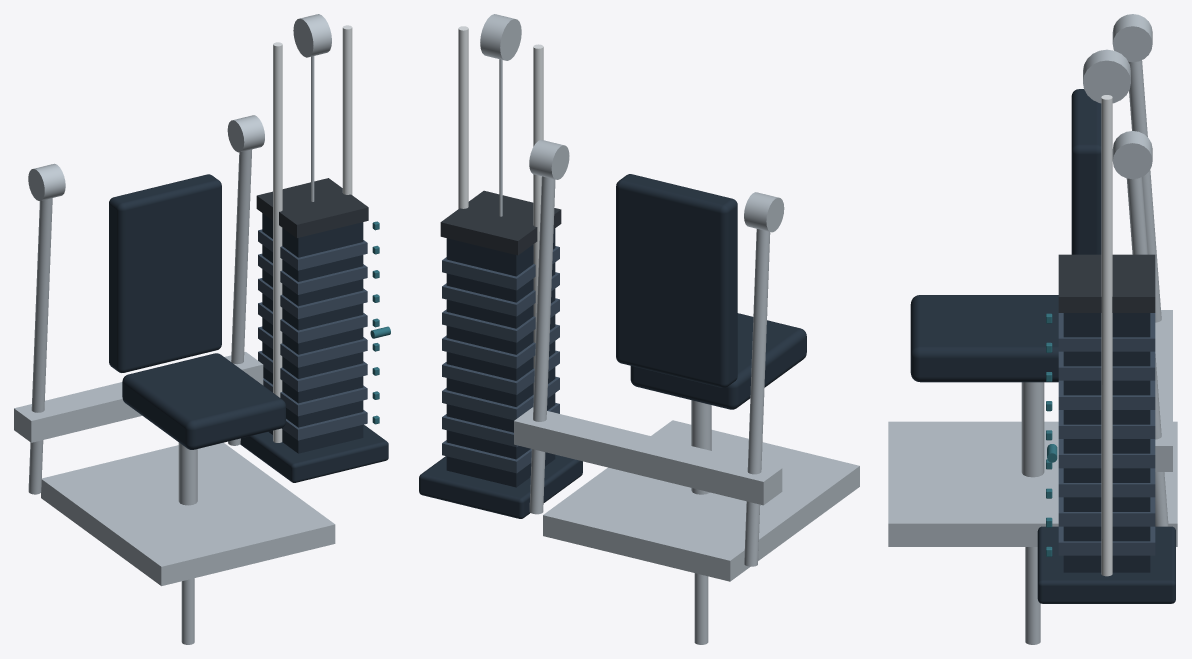
Rendered from seated_dip.glb.
3 views of the same model, side by side, from view 1: azimuth 30°, elevation 25°; view 2: azimuth 150°, elevation 25°; view 3: azimuth 270°, elevation 25° (orthographic). The views are drawn at different scales.
Visible parts, largest first — view 1: base, back, weightPlate (×8), stack, seat, guide (×2), pivotBridge, stackBase, stackLift, Lsupport, Rsupport, loadPulley (+5 smaller); view 2: back, base, weightPlate (×8), stack, pivotBridge, seat, stackBase, stackLift, Rsupport, Lsupport, guide (×2), loadPulley (+5 smaller); view 3: base, seat, weightPlate (×8), stack, stackBase, guide, stackLift, back, pivotBridge, post, Rsupport, Lsupport (+4 smaller).
Part boxes in pixels (box(x1,y1,x2,y2)): base: box(41, 442, 335, 586); back: box(109, 174, 221, 372); weightPlate (×8): box(258, 229, 367, 440); stack: box(262, 213, 363, 453); seat: box(122, 353, 285, 449); guide (×2): box(273, 25, 352, 442); pivotBridge: box(14, 352, 263, 442); stackBase: box(240, 424, 388, 482); stackLift: box(256, 178, 368, 237); Lsupport: box(28, 198, 52, 494); Rsupport: box(228, 149, 252, 445); loadPulley: box(293, 14, 331, 57); back: box(616, 174, 737, 387); base: box(543, 420, 859, 581); weightPlate (×8): box(442, 246, 559, 473); stack: box(446, 228, 555, 487); pivotBridge: box(514, 407, 782, 505); seat: box(630, 313, 806, 409); stackBase: box(419, 454, 582, 518); stackLift: box(440, 190, 561, 255); Rsupport: box(529, 176, 555, 514); Lsupport: box(744, 229, 770, 566); guide (×2): box(458, 26, 543, 393); loadPulley: box(480, 14, 521, 60); base: box(888, 421, 1177, 546); seat: box(910, 295, 1058, 382); weightPlate (×8): box(1058, 313, 1155, 555); stack: box(1063, 313, 1150, 572); stackBase: box(1037, 526, 1175, 603); guide: box(1101, 95, 1112, 576); stackLift: box(1058, 254, 1155, 312); back: box(1071, 89, 1101, 254); pivotBridge: box(1155, 310, 1172, 471); post: box(1021, 382, 1044, 477); Rsupport: box(1126, 177, 1168, 526); Lsupport: box(1128, 60, 1161, 322).
Size of the model in its own units: 1.4 by 2.33 by 0.9.
